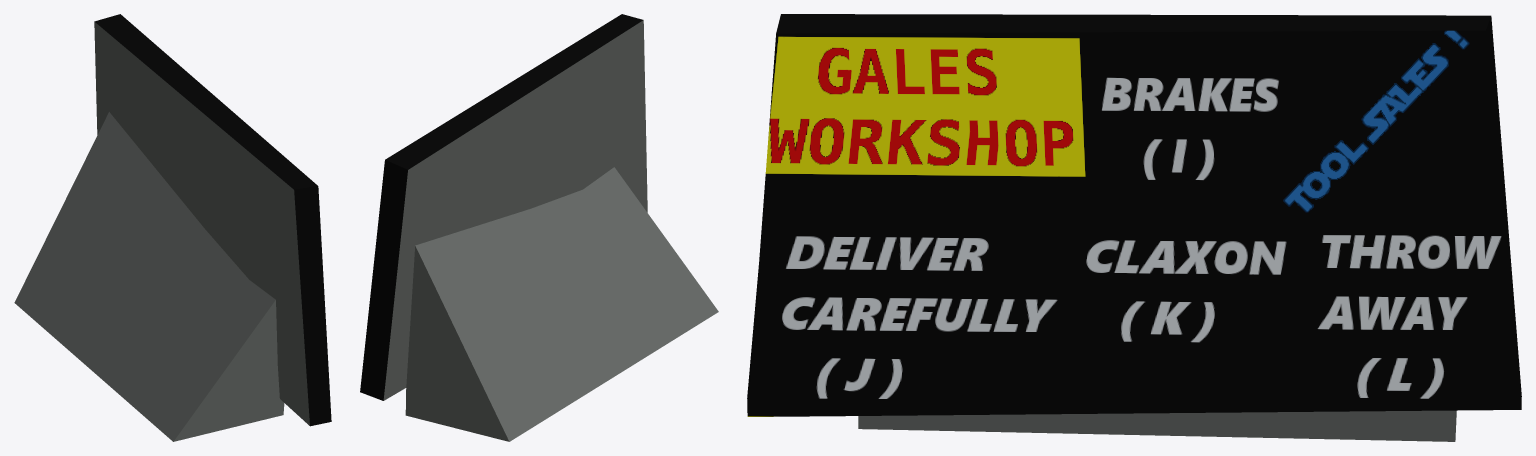
The model's file is Info_Tool.fbx.
3 views of the same model, side by side, from view 1: azimuth 30°, elevation 25°; view 2: azimuth 150°, elevation 25°; view 3: azimuth 270°, elevation 25° (orthographic). The views are drawn at different scales.
Parts seen in each view (by area): view 1: Cube; view 2: Cube; view 3: Cube.
Part boxes in pixels (x1=…): Cube: x1=14, y1=14, x2=331, y2=441; Cube: x1=360, y1=14, x2=718, y2=441; Cube: x1=747, y1=14, x2=1521, y2=441.
Bounding box in the file's own units: 429 × 159 × 257.
1 material, 1 textured.
